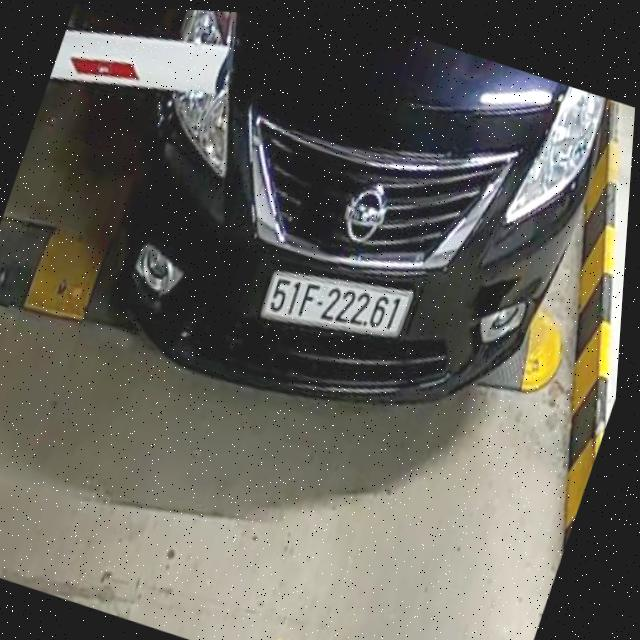car: (17, 2, 636, 491)
plate: (251, 249, 423, 360)
